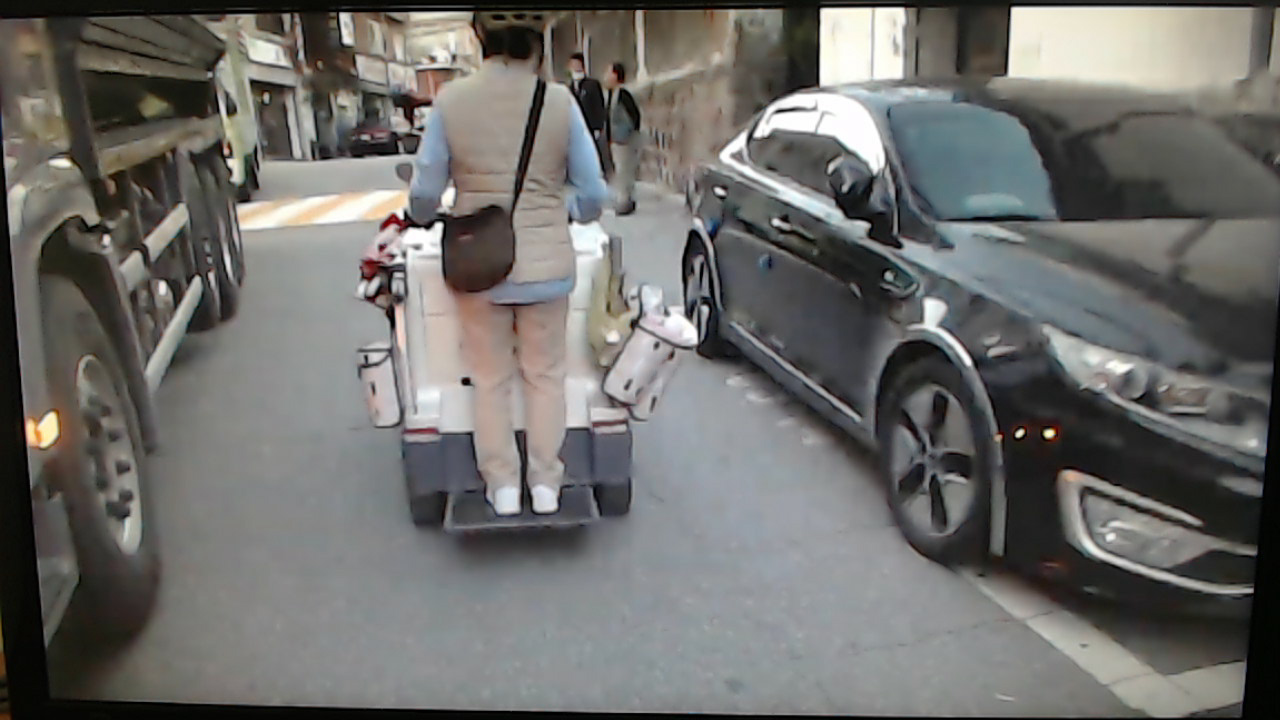Yakurut: (387, 15, 652, 530)
